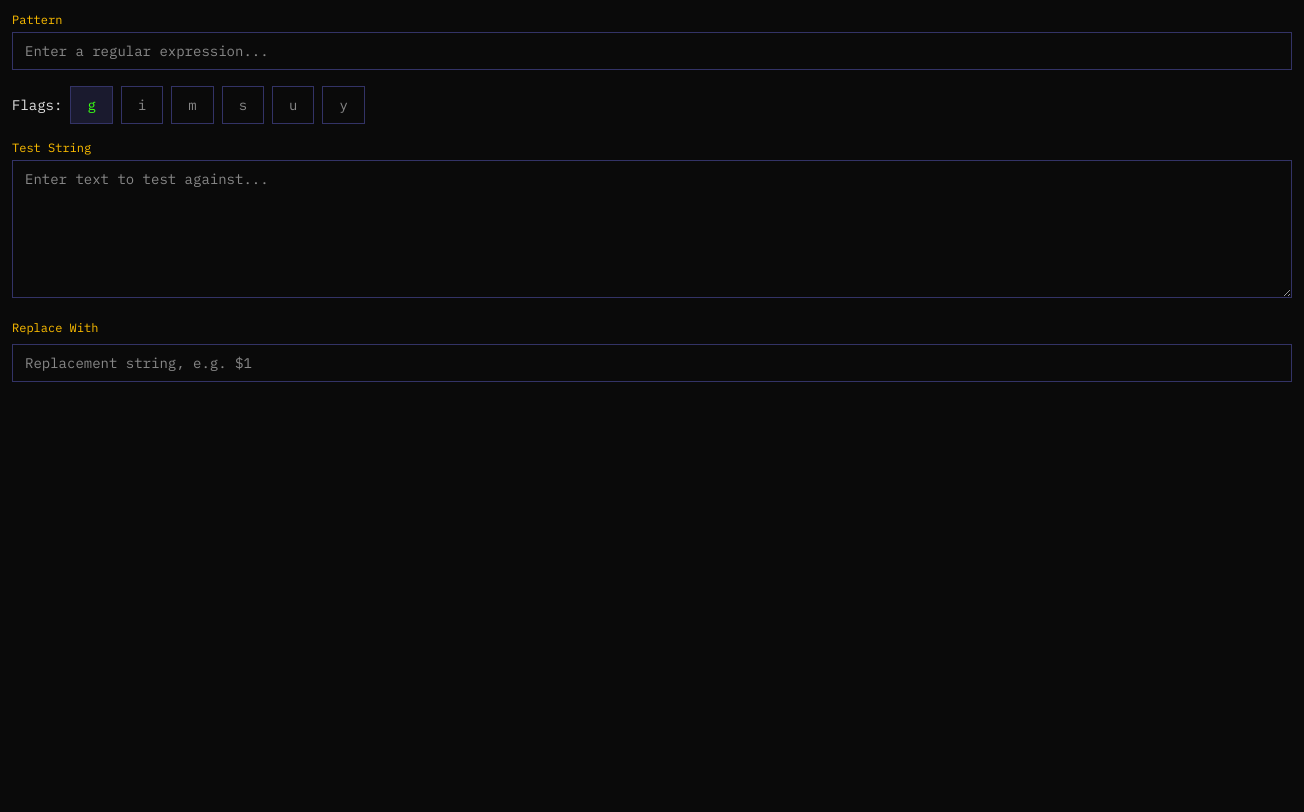
Scenario: RegexTester › renders the match count when typing a pattern and test string
Type "o" into the field labelled "Pattern" at (652, 51), box left=12, top=32, right=1292, bottom=70
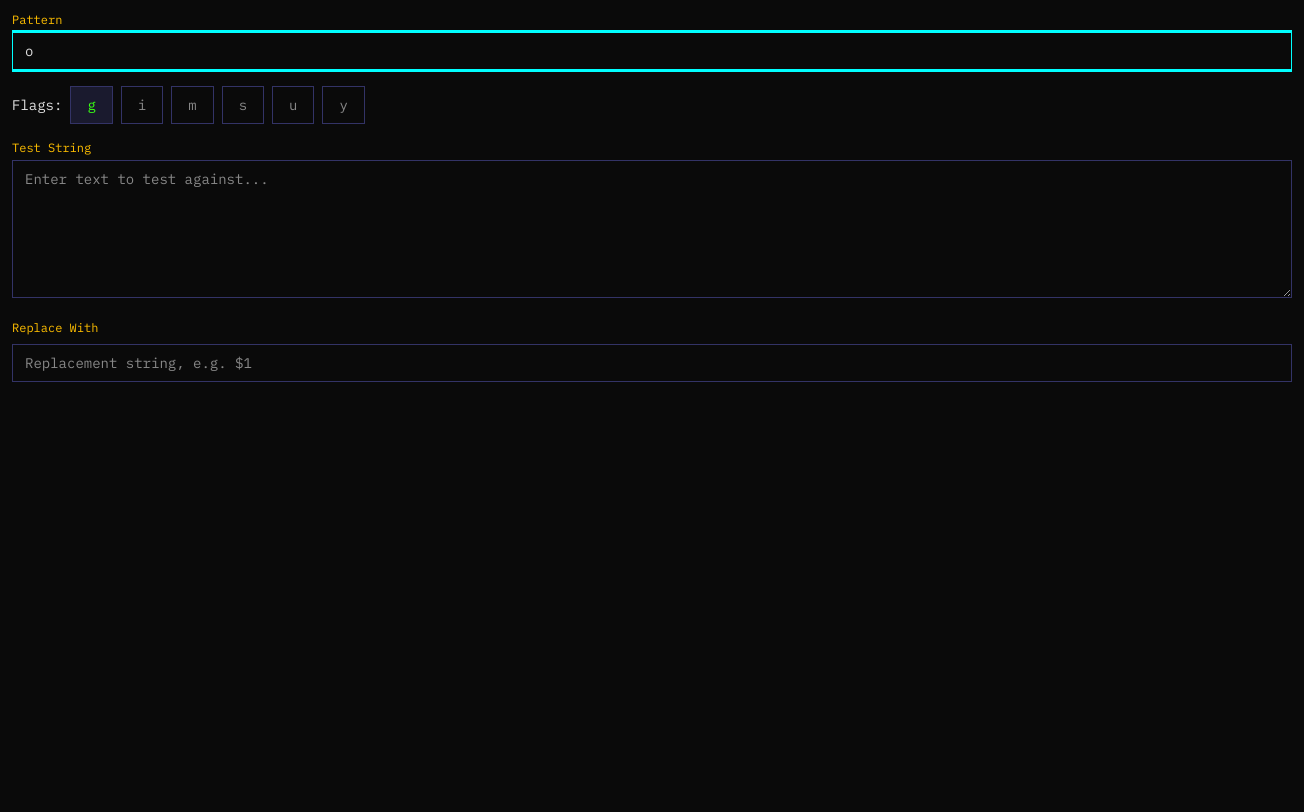
Type "foo boo" into the text box labelled "Test String" at (652, 229), box left=12, top=160, right=1292, bottom=298
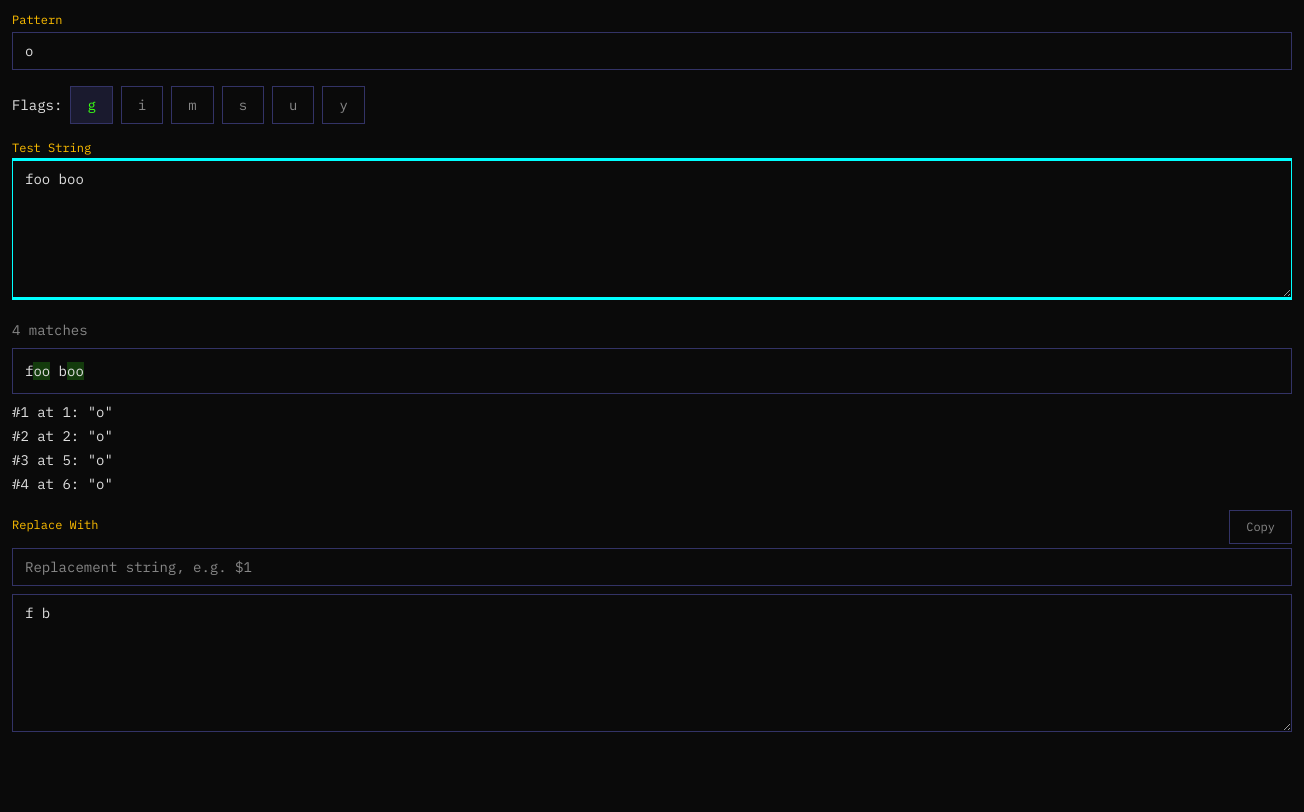
Expected: the text "4 matches" is shown, left=12, top=321, right=88, bottom=339
